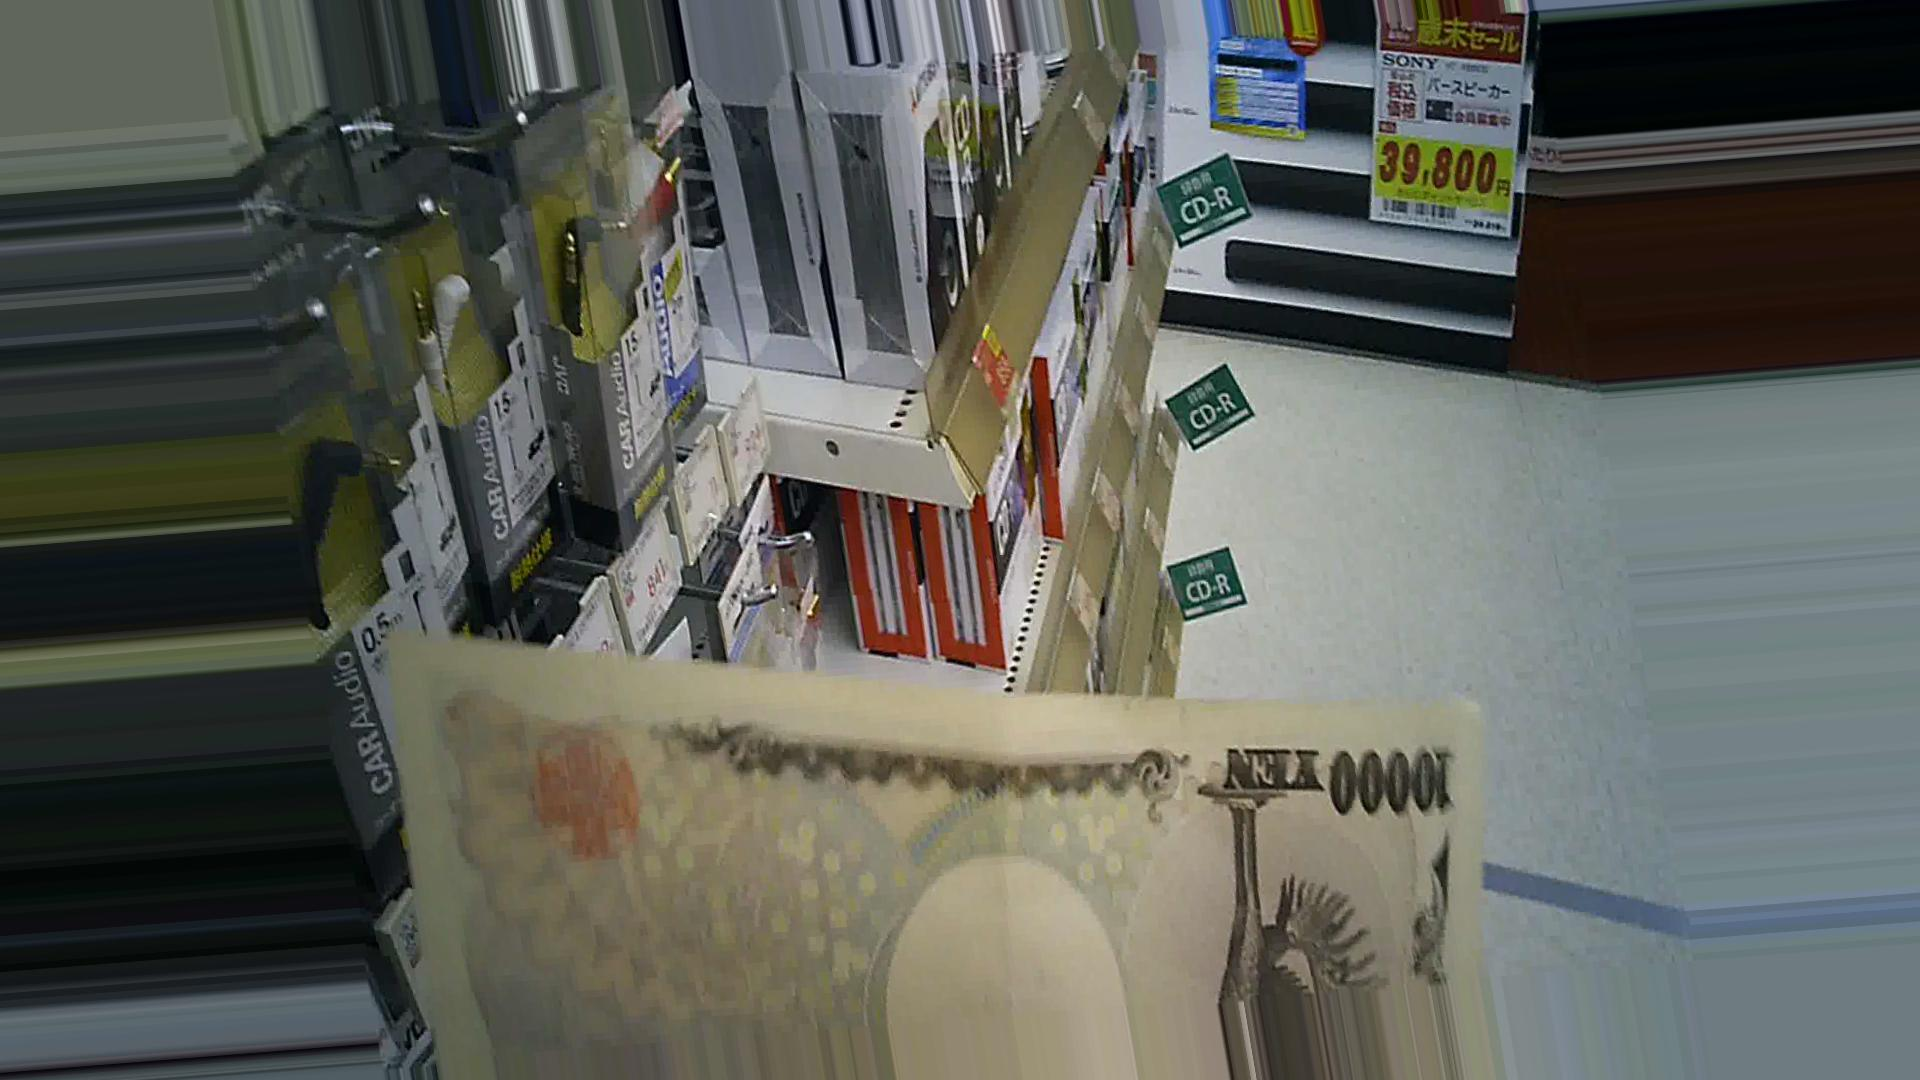10,000 Yen: (369, 603, 1524, 992)
